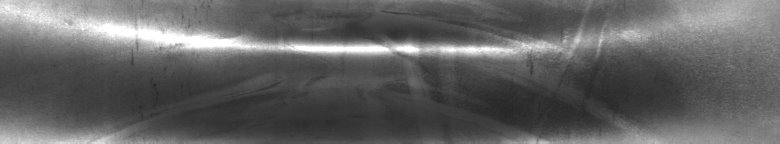ke: (64, 4, 643, 136)
